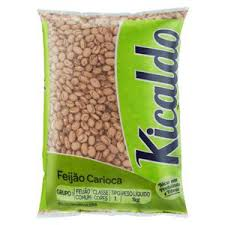feijão: (32, 3, 193, 218)
